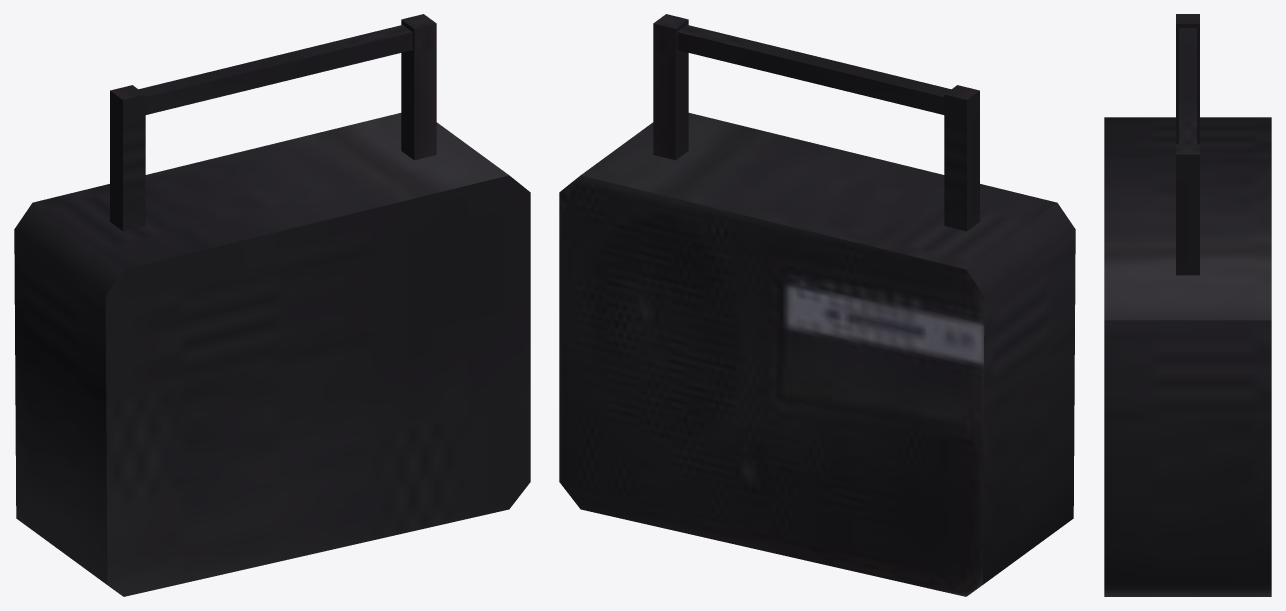
Rendered from Radio_02.glb.
The picture shows the model from 3 angles, left to right: view 1: azimuth 30°, elevation 25°; view 2: azimuth 150°, elevation 25°; view 3: azimuth 270°, elevation 25°; orthographic projection. The views are drawn at different scales.
Visible parts, largest first — view 1: Radio_02; view 2: Radio_02; view 3: Radio_02.
Boxes of the visible parts, bbox=[...] form: Radio_02: bbox=[14, 14, 530, 596]; Radio_02: bbox=[559, 14, 1075, 596]; Radio_02: bbox=[1104, 14, 1271, 596].
Size of the model in its own units: 0.4354 by 0.4555 by 0.1619.
Materials: 1 (1 with a texture image).
